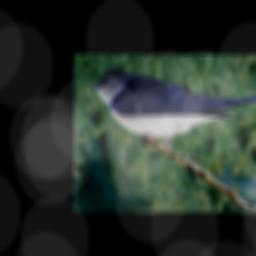Swallow: (87, 67, 256, 153)
